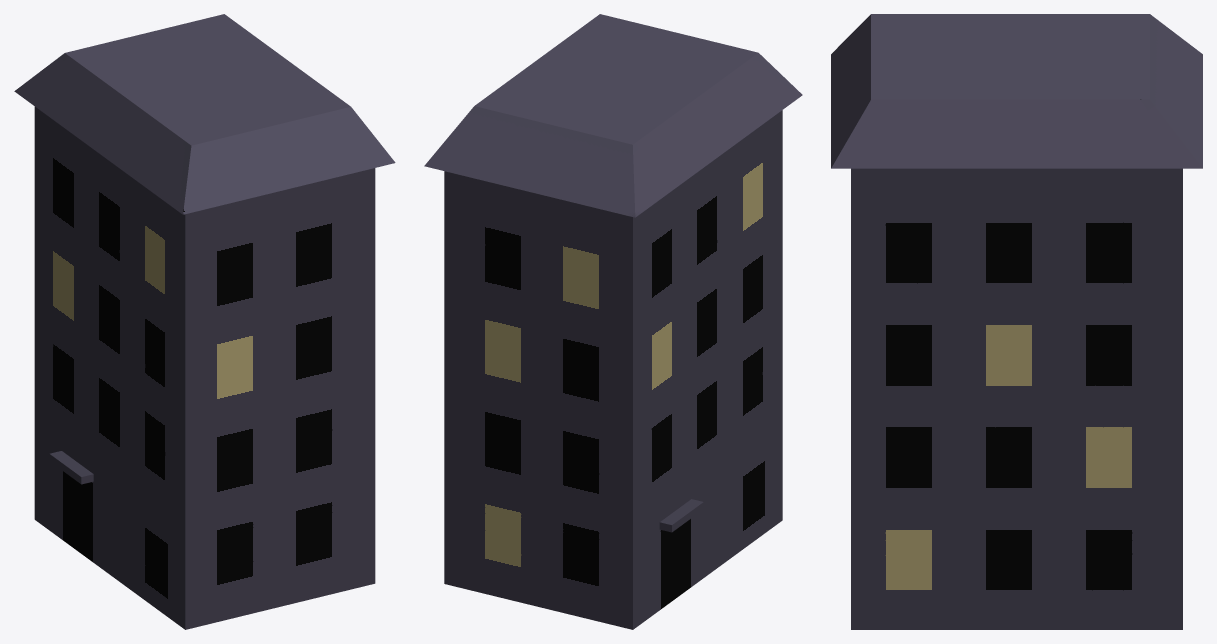
File: backHouse.glb
3 views of the same model, side by side, from view 1: azimuth 30°, elevation 25°; view 2: azimuth 150°, elevation 25°; view 3: azimuth 270°, elevation 25° (orthographic). The views are drawn at different scales.
Visible parts, largest first — view 1: BackHouse; view 2: BackHouse; view 3: BackHouse.
Part boxes in pixels (left/top/right/bottom): BackHouse: left=14, top=14, right=395, bottom=629; BackHouse: left=424, top=14, right=802, bottom=629; BackHouse: left=831, top=14, right=1202, bottom=629.
Size of the model in its own units: 8.54 by 18.12 by 11.69.
Materials: 1 (1 with a texture image).
